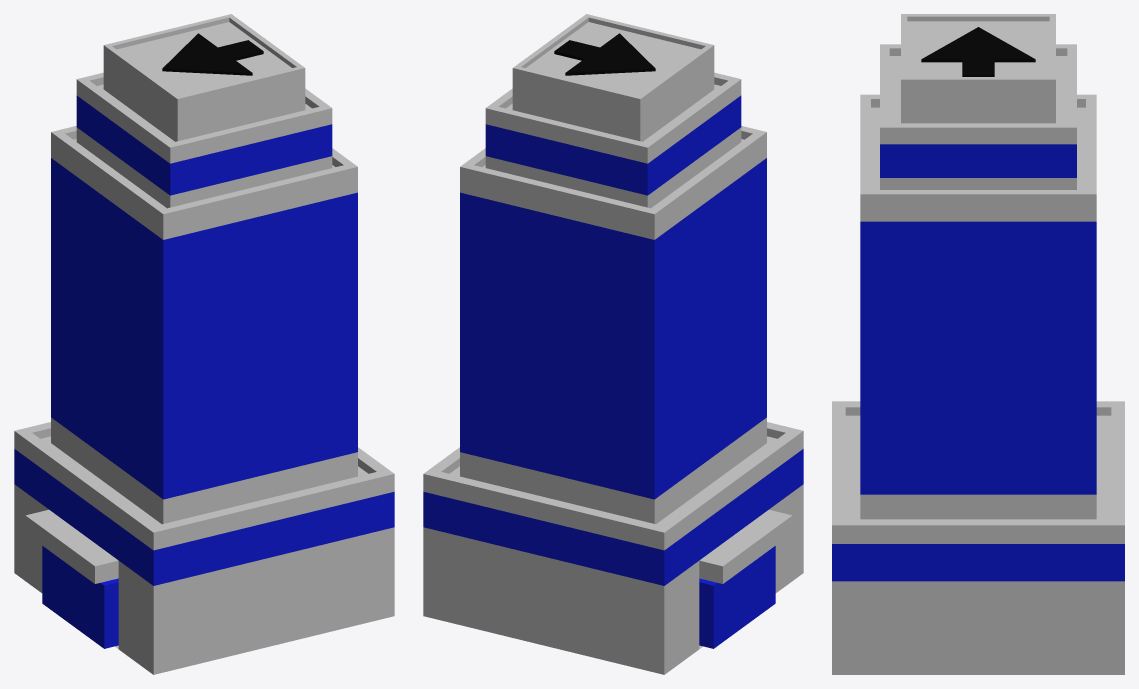
3 views of the same model, side by side, from view 1: azimuth 30°, elevation 25°; view 2: azimuth 150°, elevation 25°; view 3: azimuth 270°, elevation 25° (orthographic). The views are drawn at different scales.
Visible parts, largest first — view 1: Cube.015_Cube.004_R46,G46,B46, Cube.015_Cube.004_Material, Cube.015_Cube.004_SVGMat; view 2: Cube.015_Cube.004_R46,G46,B46, Cube.015_Cube.004_Material, Cube.015_Cube.004_SVGMat; view 3: Cube.015_Cube.004_Material, Cube.015_Cube.004_R46,G46,B46, Cube.015_Cube.004_SVGMat.
Boxes of the visible parts, x1,y1,x2,y2 form: Cube.015_Cube.004_R46,G46,B46: [14, 95, 394, 648]; Cube.015_Cube.004_Material: [14, 14, 394, 674]; Cube.015_Cube.004_SVGMat: [162, 33, 263, 75]; Cube.015_Cube.004_R46,G46,B46: [423, 95, 803, 648]; Cube.015_Cube.004_Material: [423, 14, 803, 674]; Cube.015_Cube.004_SVGMat: [554, 33, 655, 75]; Cube.015_Cube.004_Material: [832, 14, 1124, 674]; Cube.015_Cube.004_R46,G46,B46: [832, 144, 1124, 581]; Cube.015_Cube.004_SVGMat: [921, 27, 1035, 76].
Bounding box in the file's own units: 0.2561 × 0.4972 × 0.2332.
